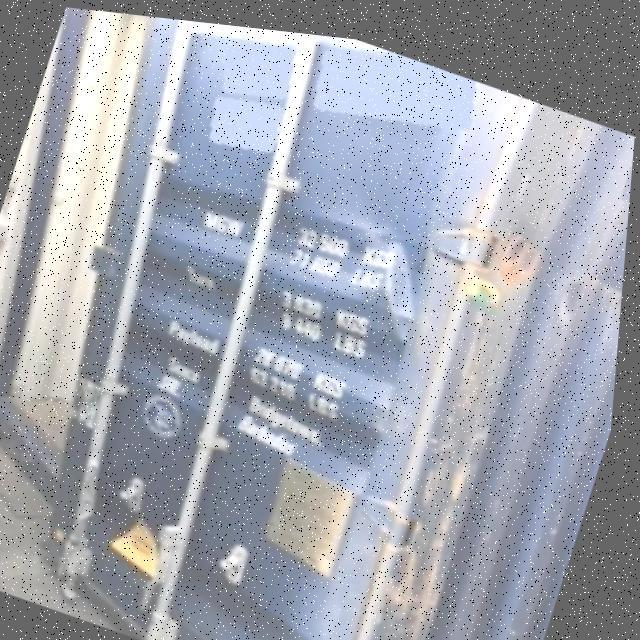dent: (331, 179, 458, 345)
